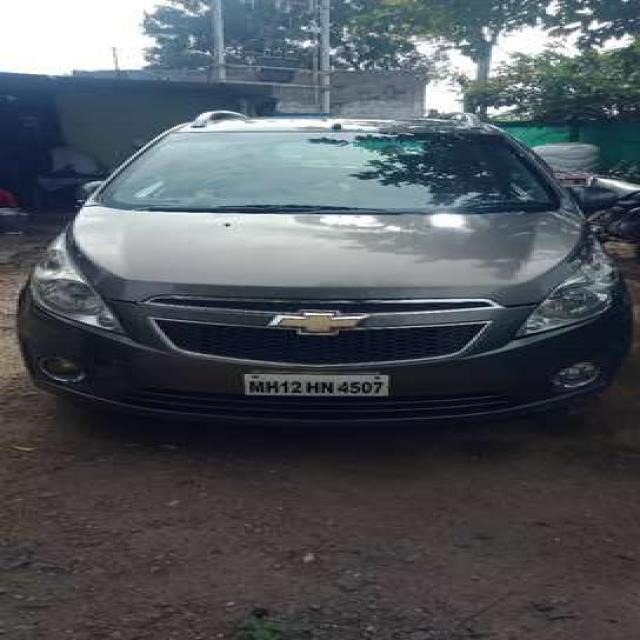Plate: (243, 375, 387, 395)
